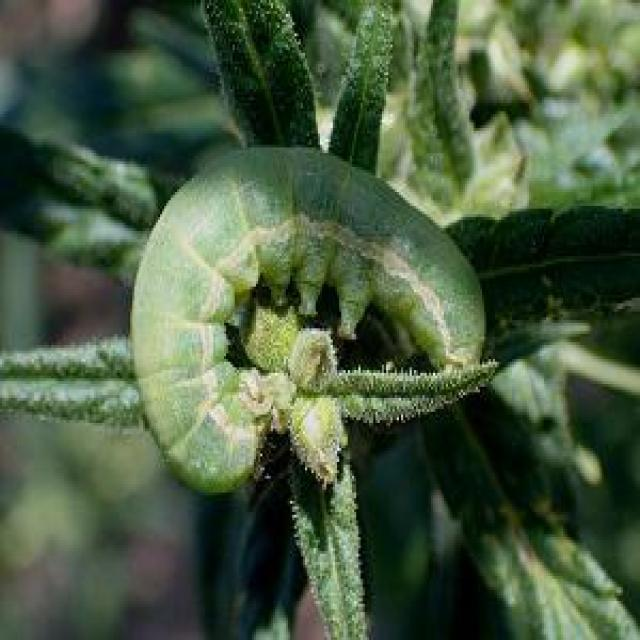BeetArmyWorm-Larva-: (119, 143, 491, 506)
